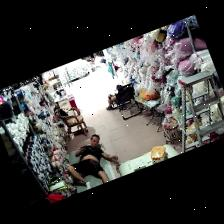person: (68, 135, 119, 189), (107, 95, 116, 110), (90, 54, 95, 62)
